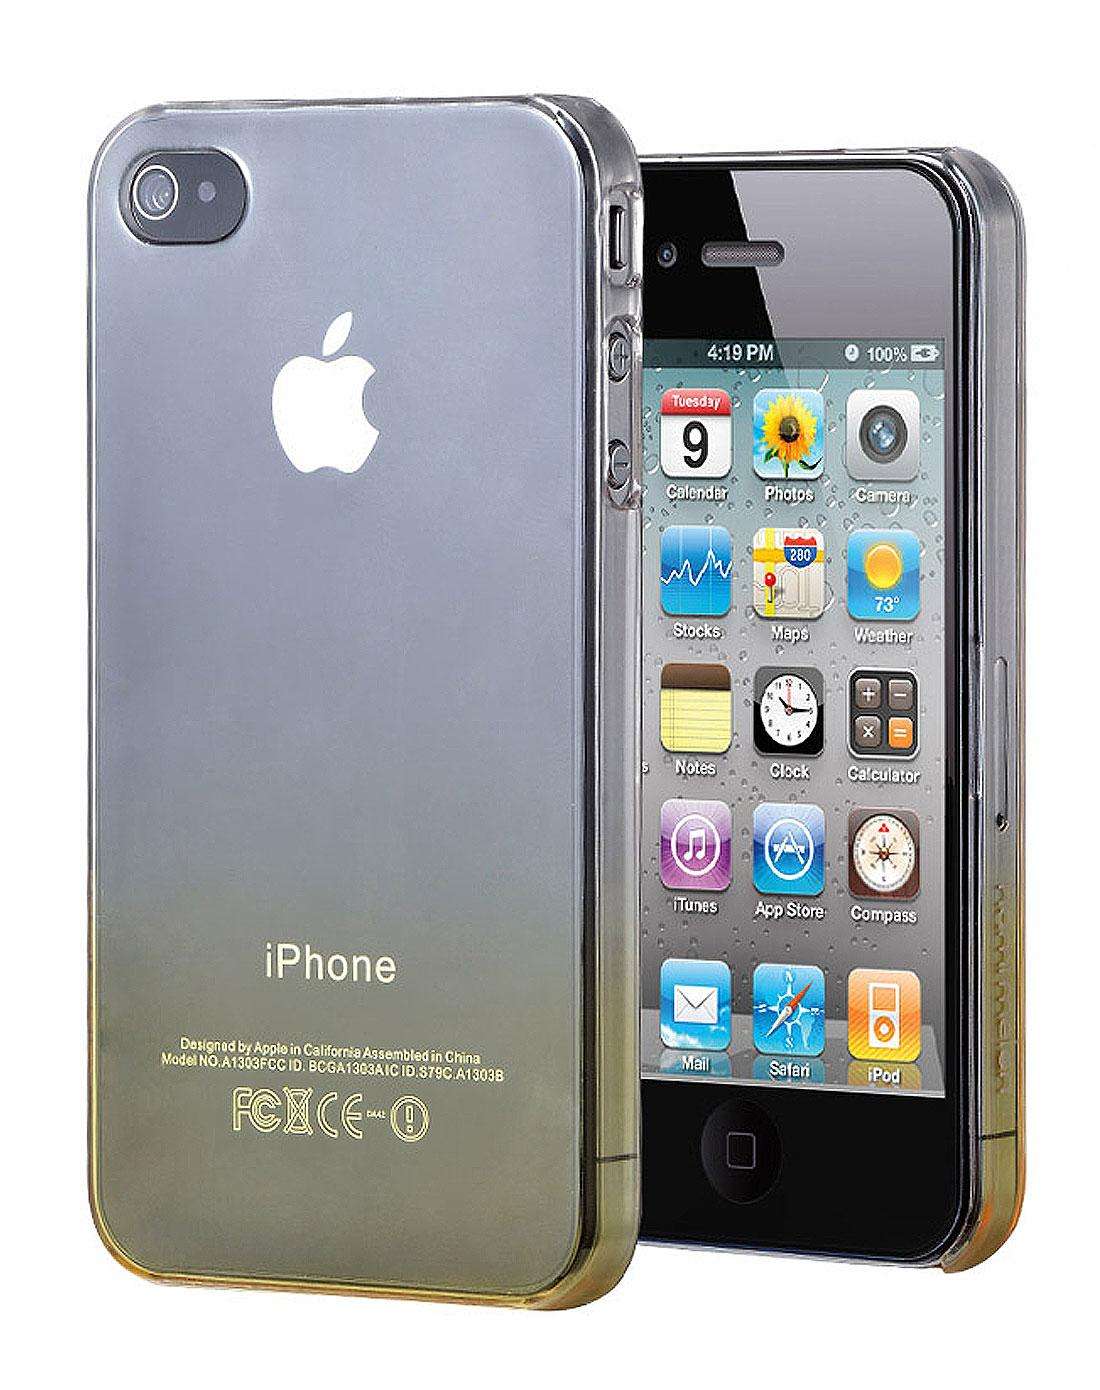phone: (91, 88, 646, 1309), (649, 150, 1026, 1282)
